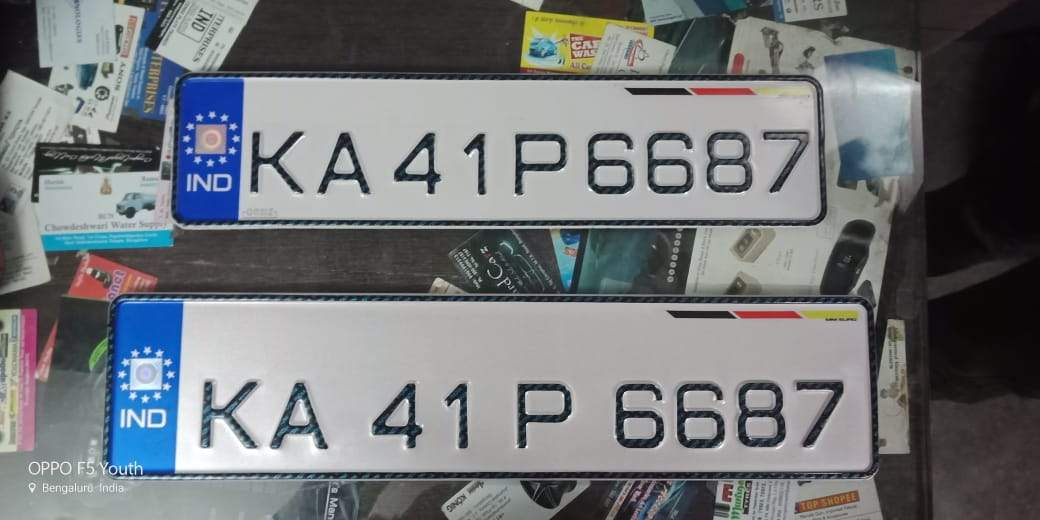number_plate: (103, 293, 877, 479), (172, 67, 826, 230)
